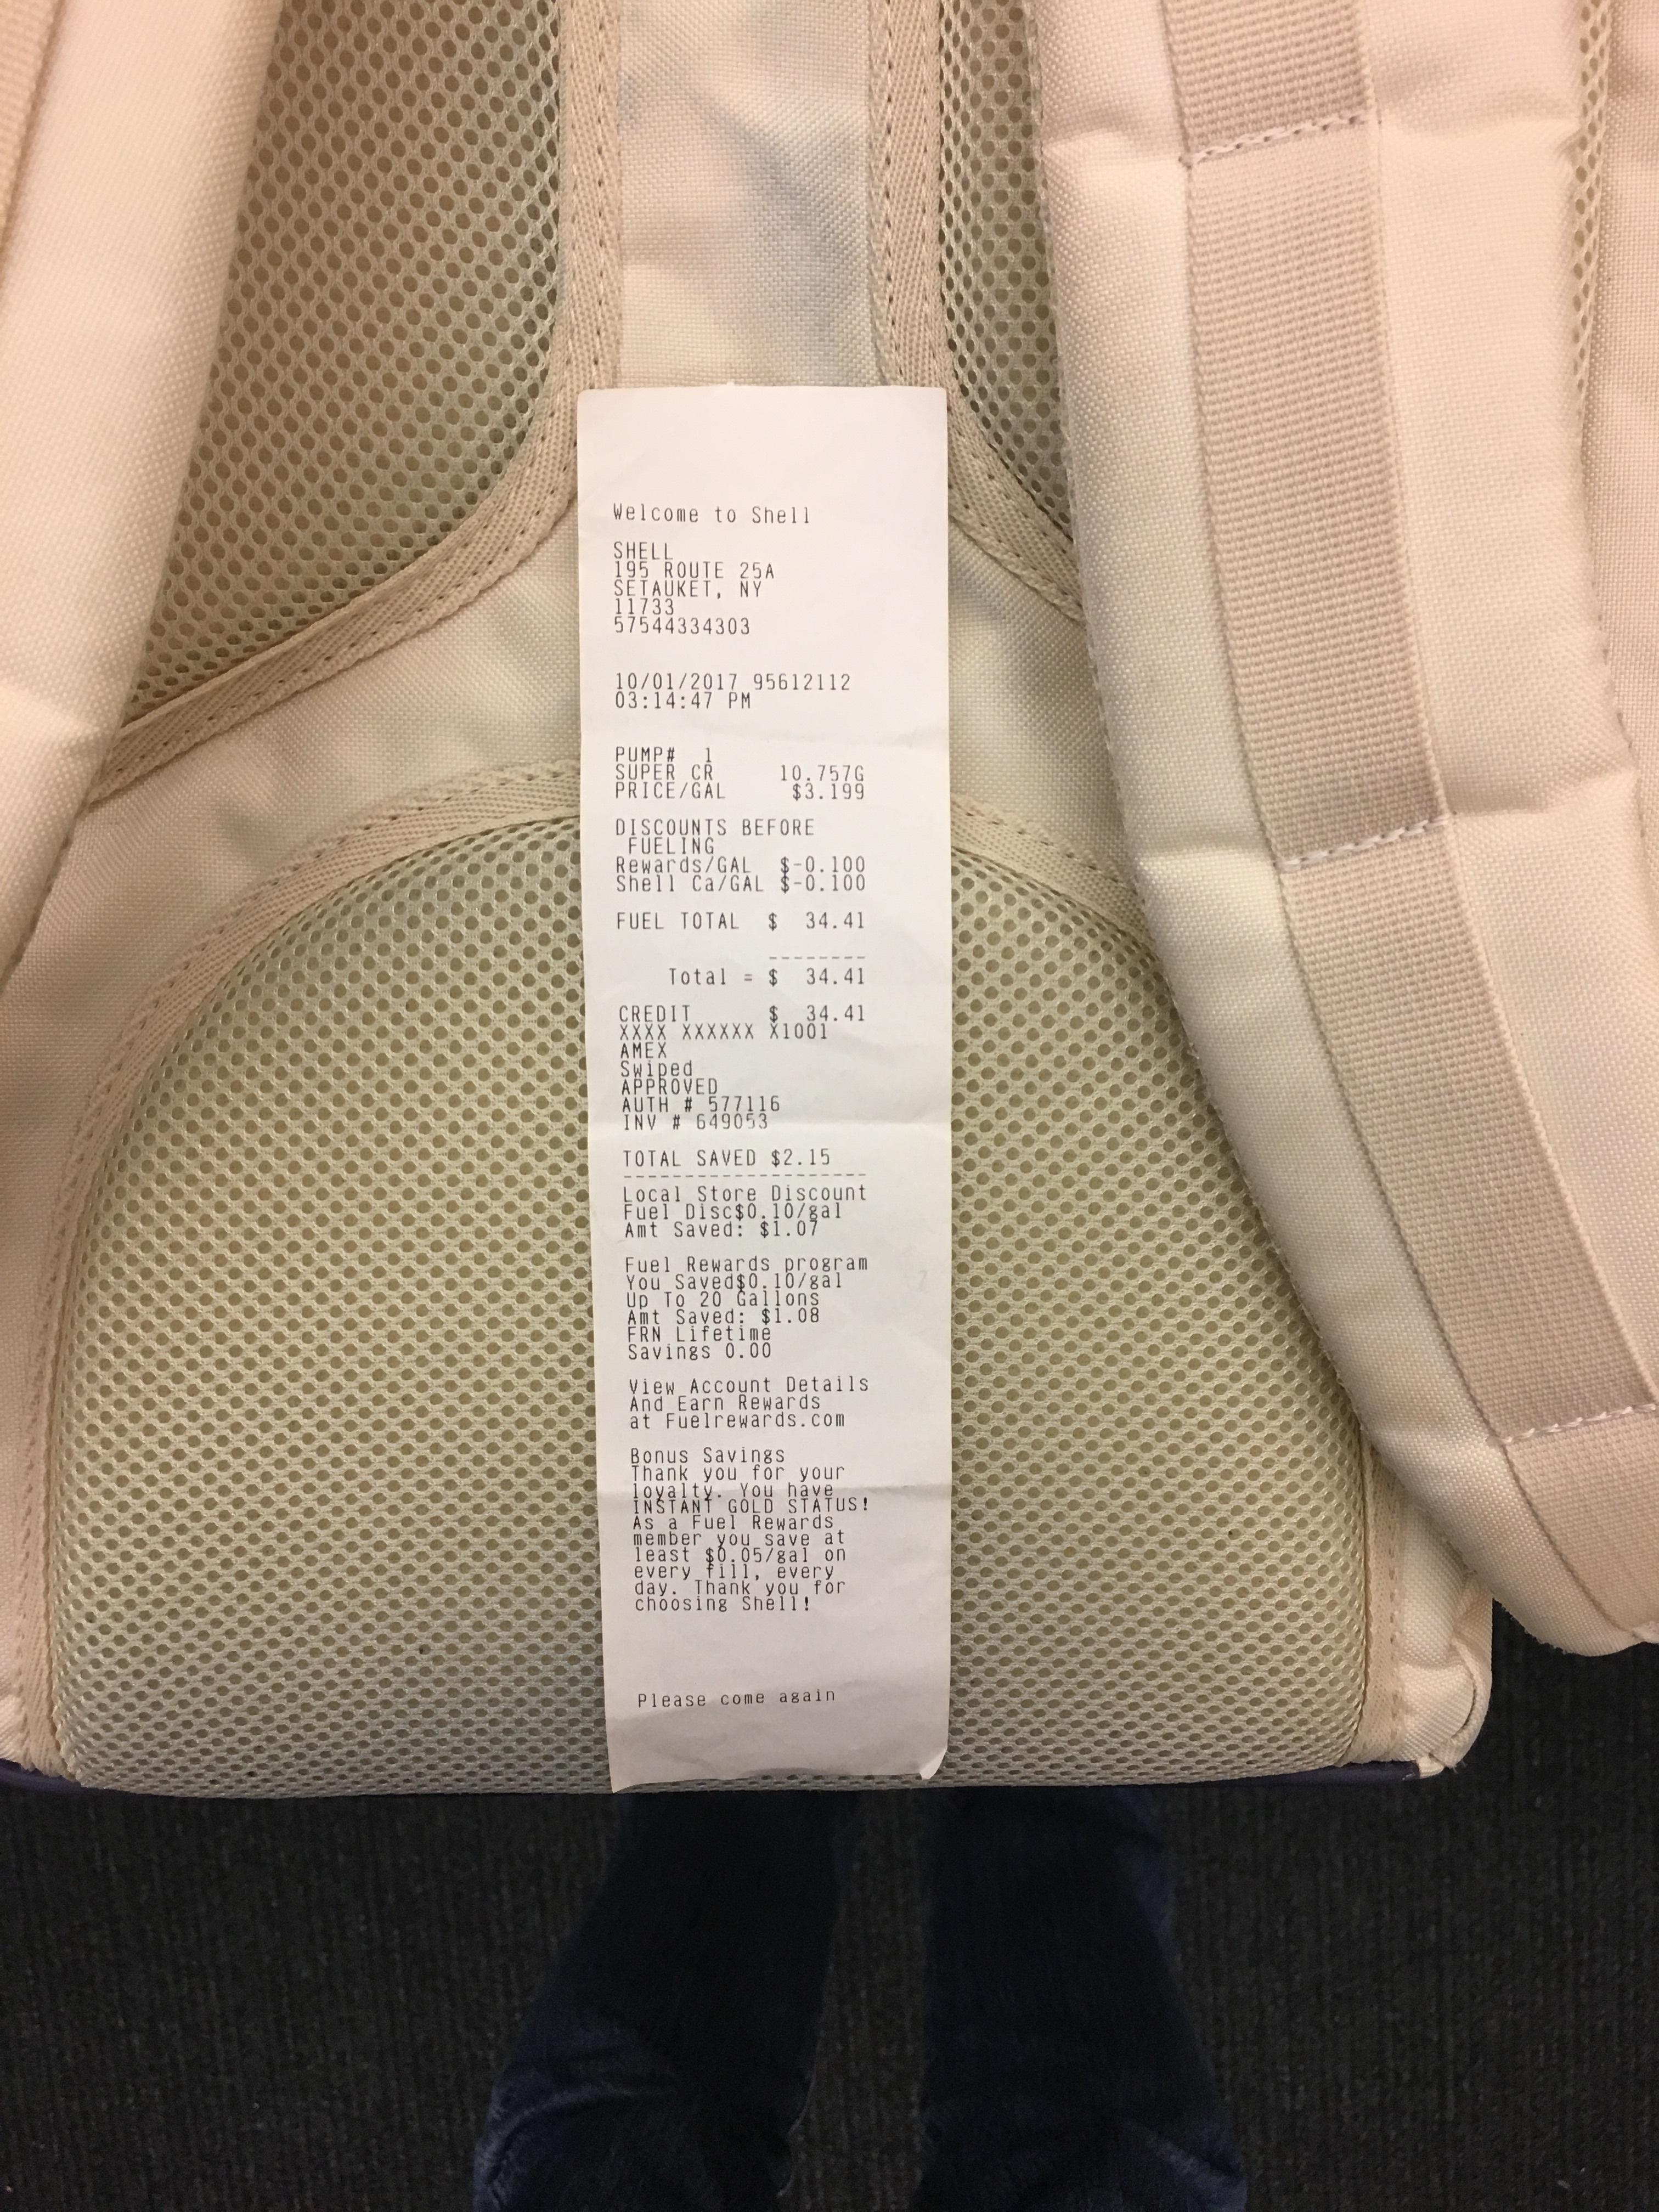paper: (383, 301, 1206, 1883)
